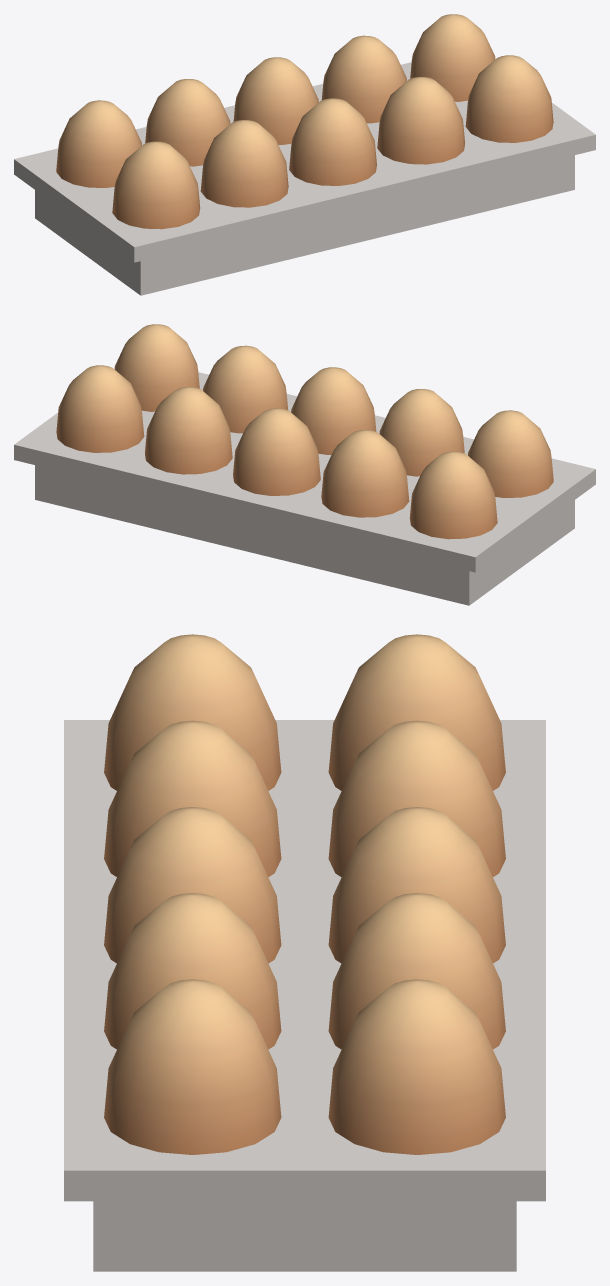
The model's file is EggDisplay.glb.
The picture shows the model from 3 angles, top to bottom: view 1: azimuth 30°, elevation 25°; view 2: azimuth 150°, elevation 25°; view 3: azimuth 270°, elevation 25°; orthographic projection. The views are drawn at different scales.
Parts seen in each view (by area): view 1: EggDisplay; view 2: EggDisplay; view 3: EggDisplay.
Boxes of the visible parts, box(x1,y1,x2,y2) form: EggDisplay: box(14, 14, 595, 295); EggDisplay: box(14, 324, 595, 605); EggDisplay: box(64, 634, 545, 1271).
Size of what is drawn, in the model's own units: 1.19 by 0.3081 by 0.5398.
Materials: 1 (1 with a texture image).
